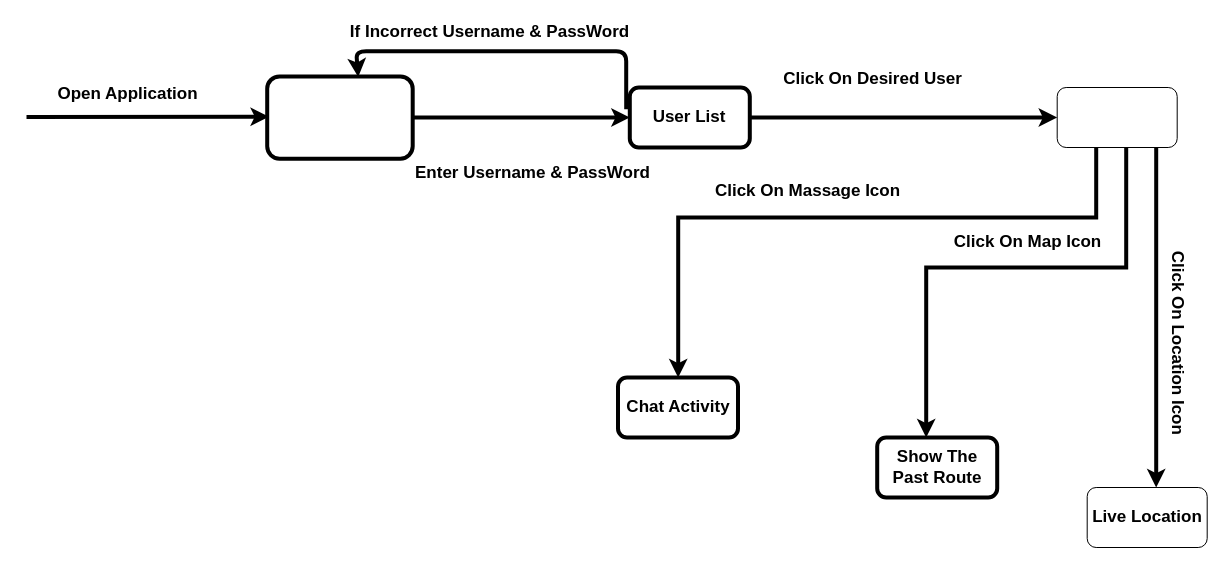
Image size: 1225x565. Some labels were removed from this diagram. Each missing label, with the centre of its shape:
"Login Activity" belongs at (x=339, y=117).
"User Information" belongs at (x=1116, y=117).
